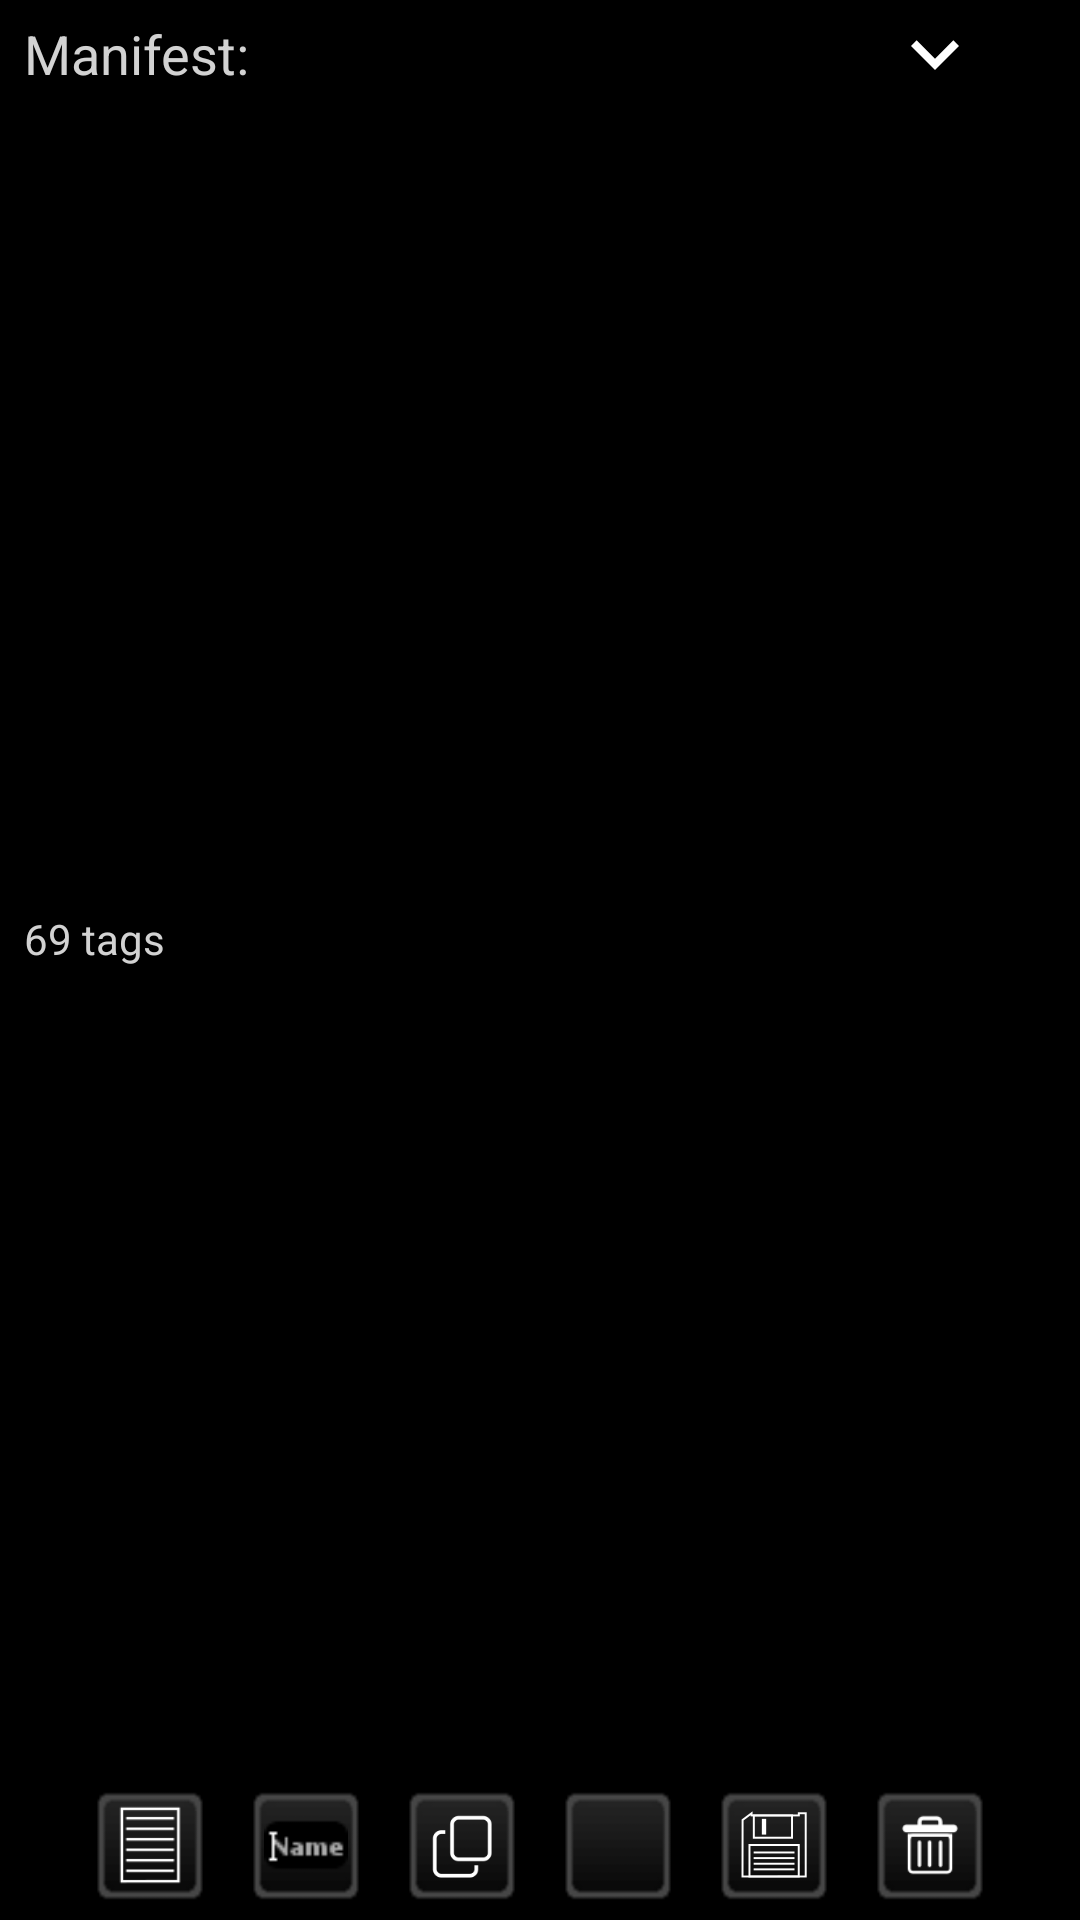

Locate icon controls on the screen. Image size 1080*1920, boxes as [x1=x1, y1=y1, x2=x2, y2=y2].
delete: [x1=878, y1=1794, x2=982, y2=1899]
details: [x1=98, y1=1794, x2=202, y2=1899]
extras caret: [x1=911, y1=40, x2=959, y2=70]
save: [x1=722, y1=1794, x2=826, y2=1899]
